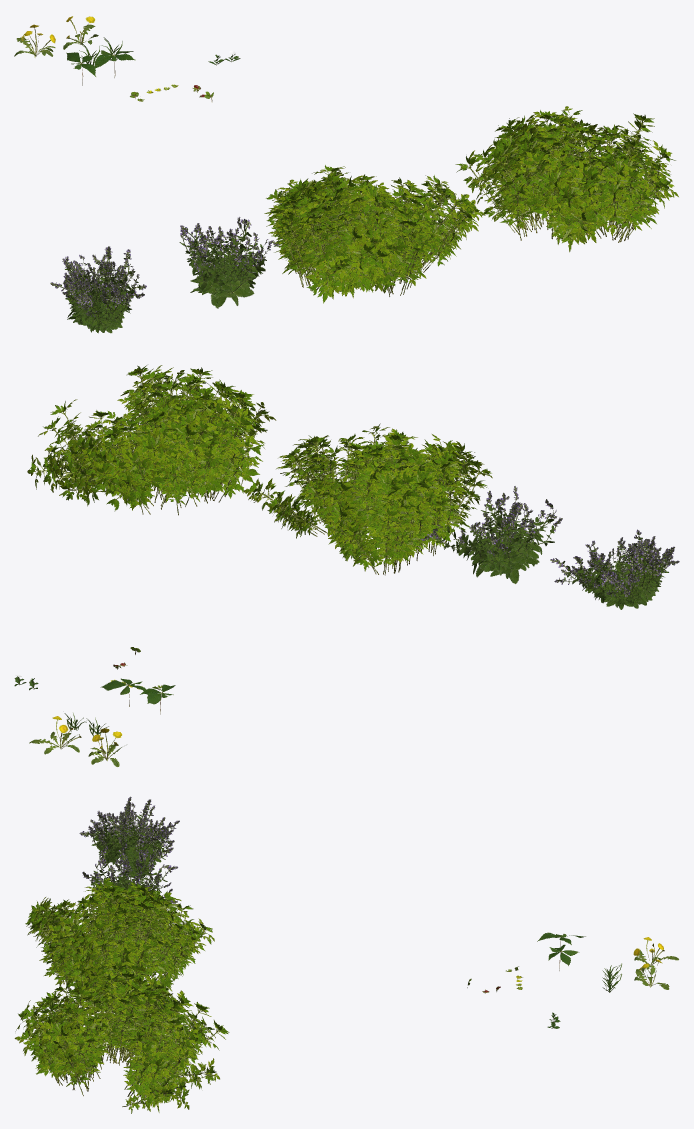
Rendered from scanned_plants_and_grass_free_download.glb.
The picture shows the model from 3 angles, top to bottom: view 1: azimuth 30°, elevation 25°; view 2: azimuth 150°, elevation 25°; view 3: azimuth 270°, elevation 25°; orthographic projection. The views are drawn at different scales.
Parts seen in each view (by area): view 1: Object_15, Object_10, Object_11, Object_9, Object_8, Object_17, Object_18, Object_16, Object_13, Object_12, Object_14, Object_7 (+1 smaller); view 2: Object_11, Object_8, Object_10, Object_9, Object_14, Object_17, Object_18, Object_16, Object_15, Object_13, Object_12, Object_7 (+1 smaller); view 3: Object_11, Object_8, Object_14, Object_10, Object_9, Object_15, Object_18, Object_12, Object_13, Object_17, Object_16, Object_7 (+1 smaller).
Part boxes in pixels (x1,y1,x2,y2): Object_15: (268,175,480,292); Object_10: (456,123,669,235); Object_11: (483,106,675,252); Object_9: (264,167,485,303); Object_8: (455,110,678,242); Object_17: (179,217,278,308); Object_18: (50,246,146,333); Object_16: (266,179,447,299); Object_13: (274,171,473,296); Object_12: (467,114,668,242); Object_14: (280,165,435,258); Object_7: (14,16,98,57); Object_11: (38,365,276,511); Object_8: (35,365,264,506); Object_10: (42,371,267,505); Object_9: (251,430,486,564); Object_14: (283,423,421,571); Object_17: (421,486,562,583); Object_18: (550,529,679,609); Object_16: (243,441,492,566); Object_15: (276,428,463,564); Object_13: (256,432,482,575); Object_12: (27,374,258,515); Object_7: (29,716,122,766); Object_11: (14,976,228,1106); Object_8: (15,965,229,1111); Object_14: (59,887,211,987); Object_10: (22,963,193,1106); Object_9: (26,880,214,1001); Object_15: (28,877,180,1008); Object_18: (79,796,179,880); Object_12: (23,969,220,1113); Object_13: (34,882,206,1013); Object_17: (82,844,177,927); Object_16: (25,891,193,995); Object_7: (633,937,678,989).
Size of the model in its own units: 14.17 by 2.46 by 15.06.
Materials: 7 (7 with a texture image).
